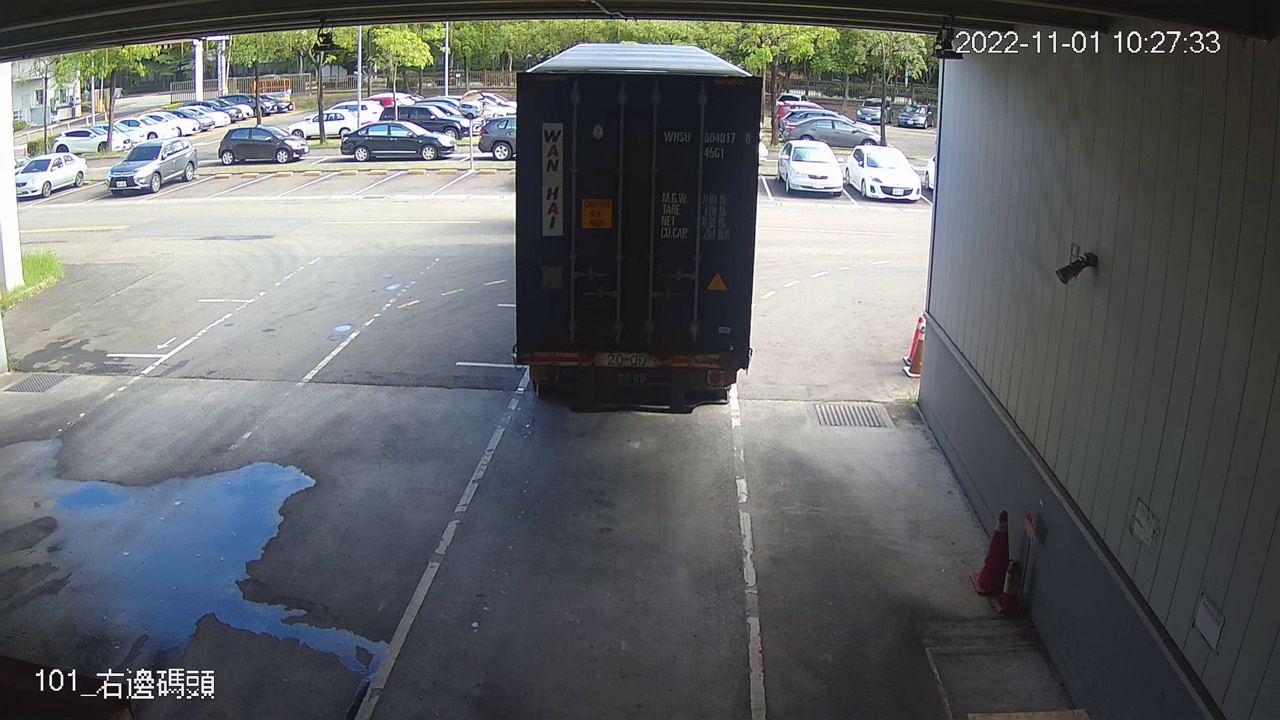container: (658, 122, 753, 166)
